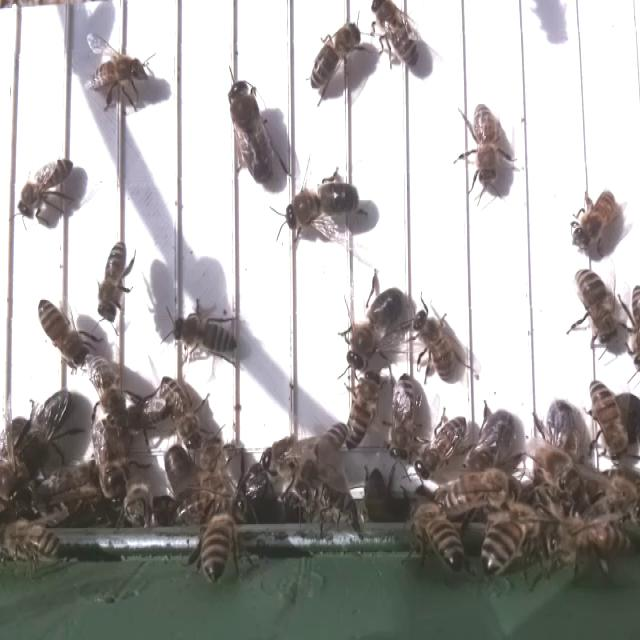Drone: (344, 283, 408, 375), (226, 76, 275, 190), (281, 177, 361, 231)
Worker: (572, 263, 619, 349), (307, 21, 362, 93), (14, 156, 74, 220), (162, 368, 205, 455), (413, 410, 468, 478), (410, 304, 456, 384), (341, 369, 385, 452), (85, 52, 152, 105), (36, 296, 84, 368), (587, 376, 625, 461), (170, 311, 238, 356), (386, 367, 416, 466), (570, 189, 616, 252), (470, 99, 501, 190), (96, 237, 127, 326)
